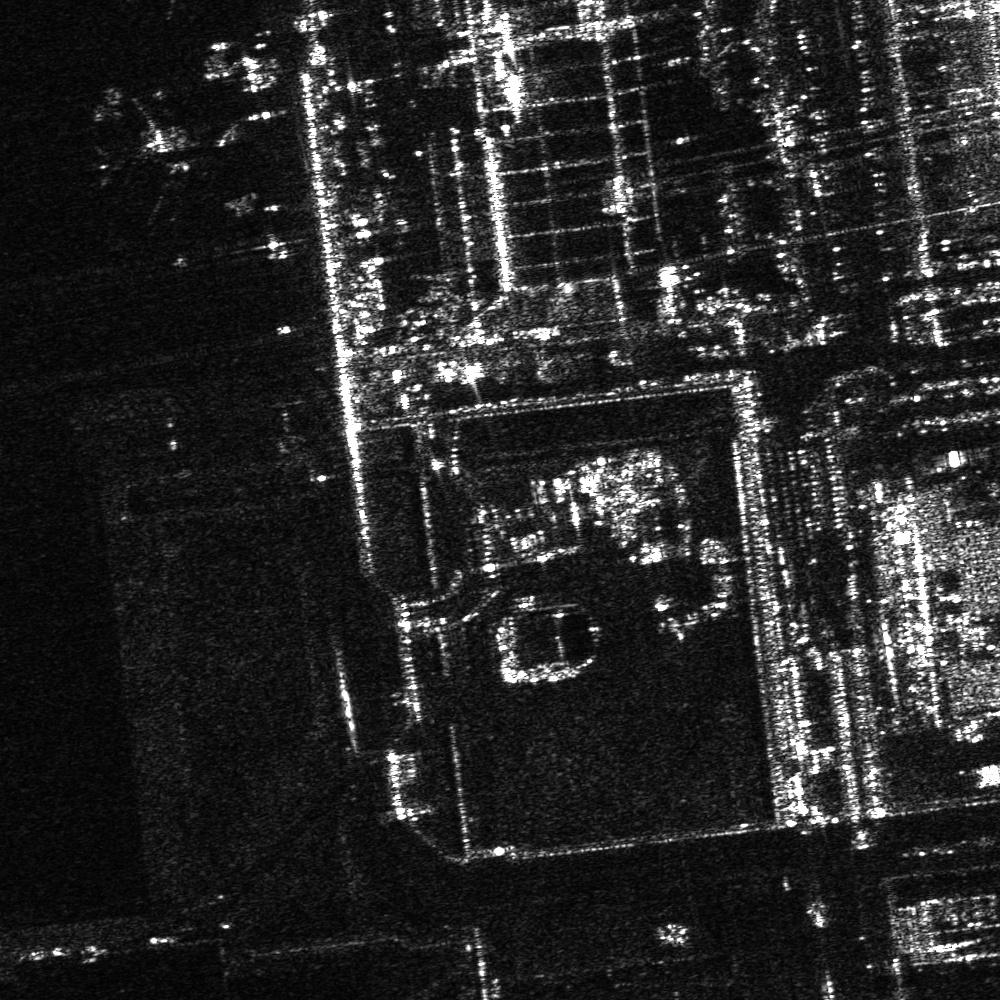Boeing787: (96, 98, 206, 221)
